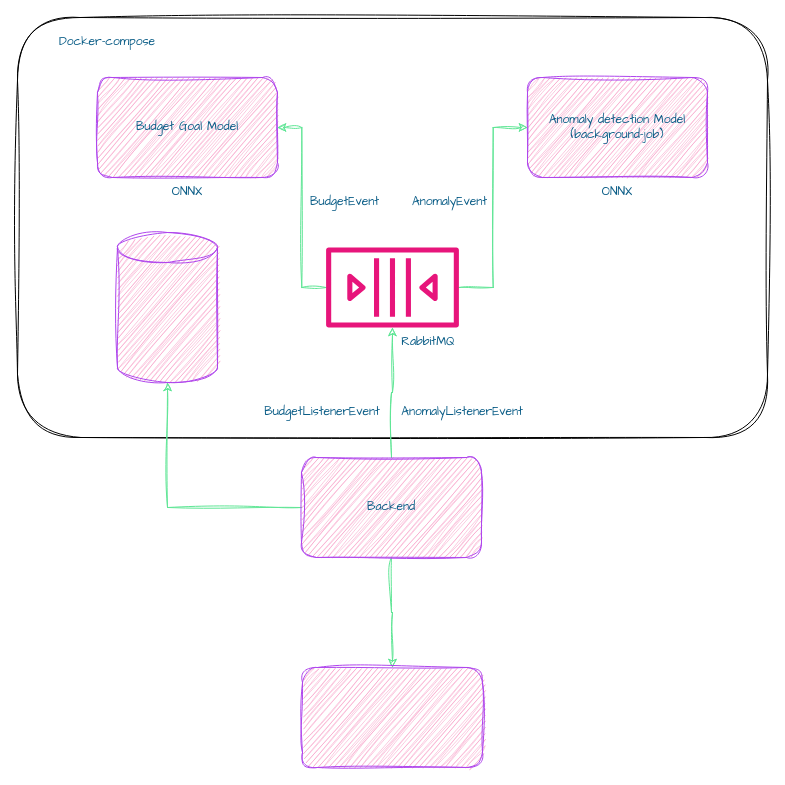
Some shapes in this 785 by 785 pixel diagram are drawn without their labels. Each missing label, with the box of its shape:
Flutter mobile: (302, 666, 482, 768)
Postresql: (116, 232, 218, 382)
